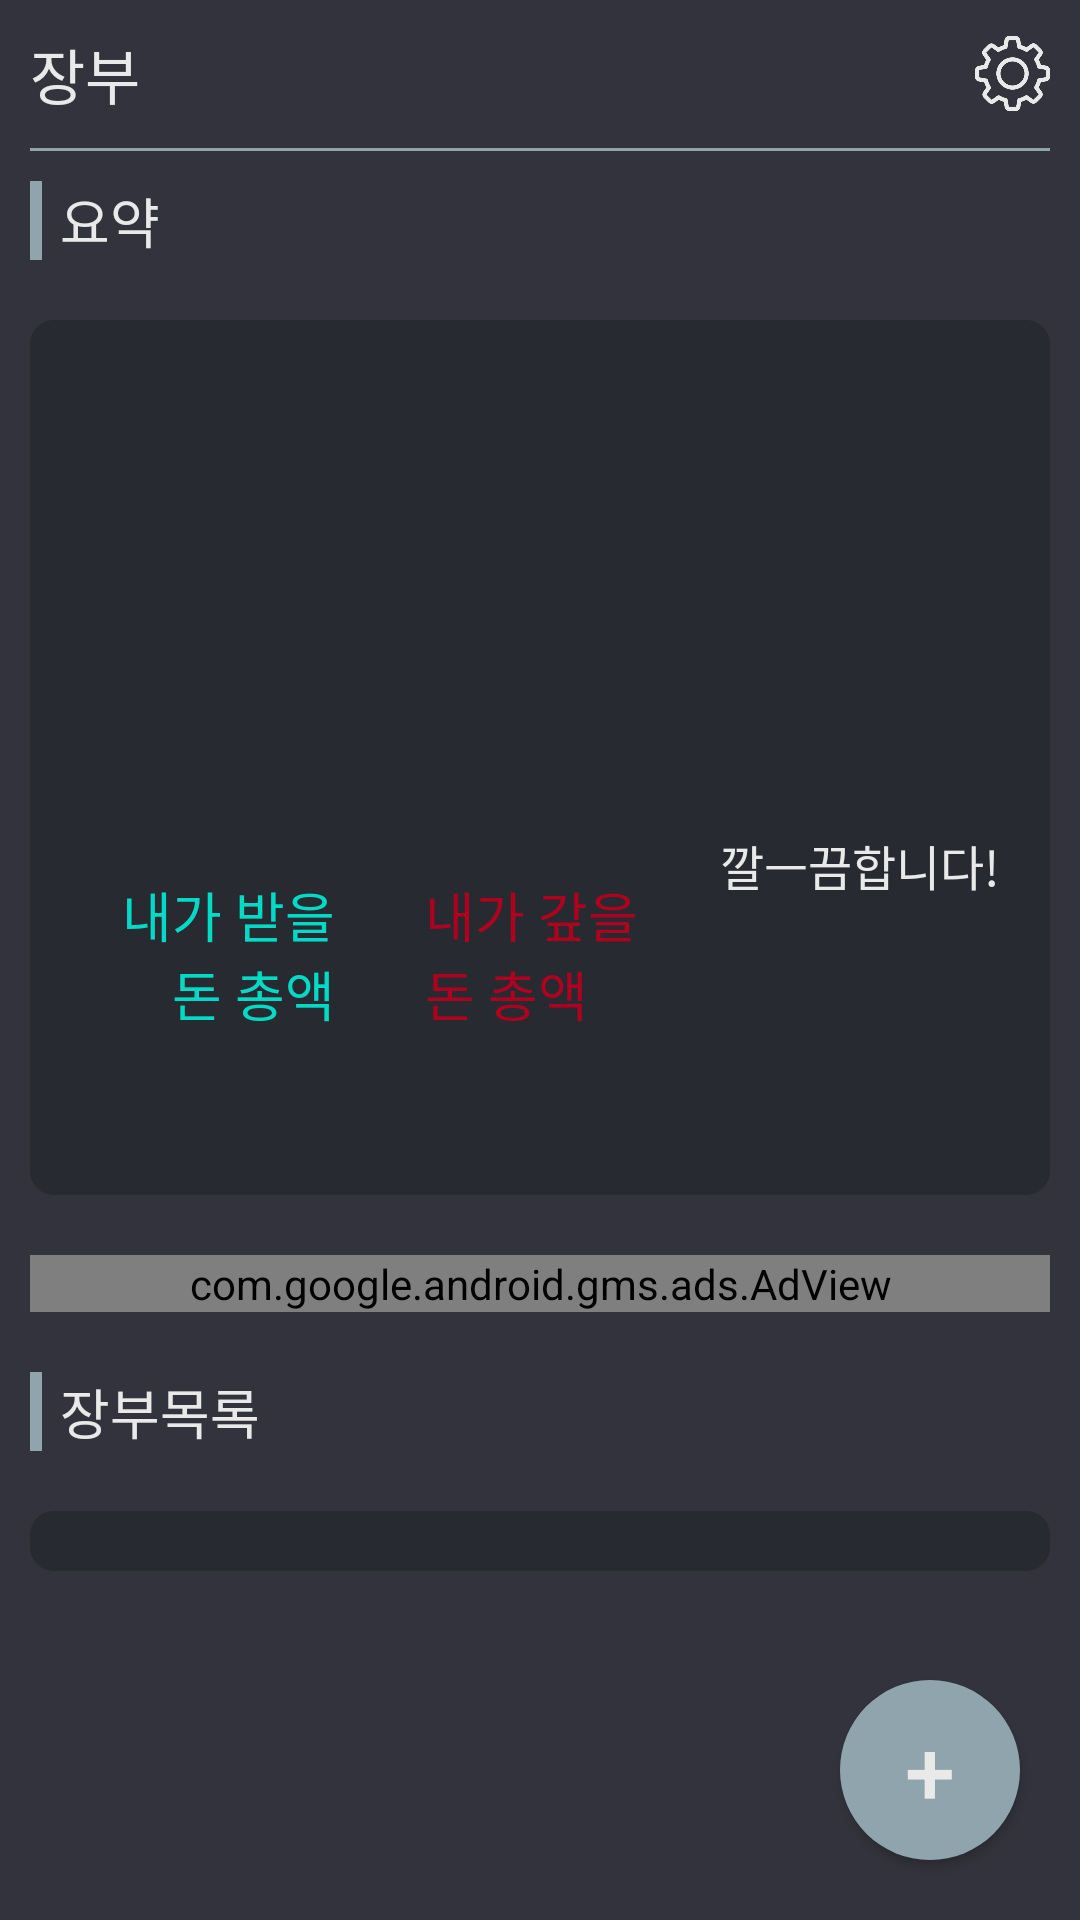

Where to tap for icons on this 1080 × 1920 app screen, as [x,y]:
settings: [1012,73]
